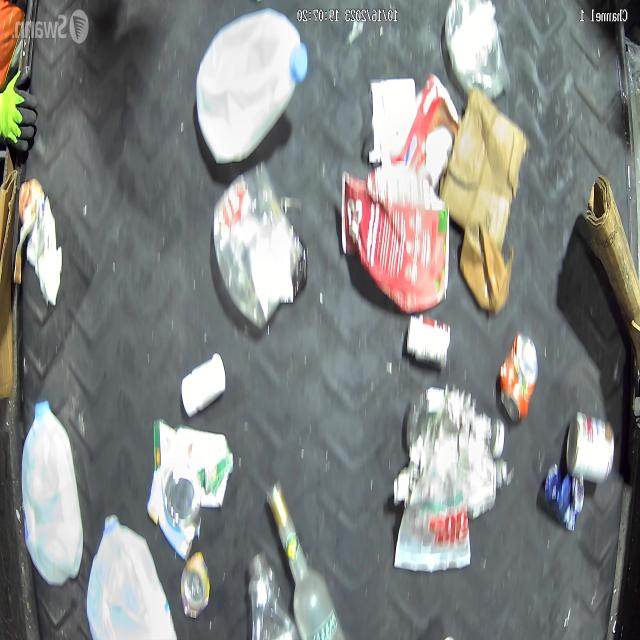can: (564, 408, 616, 485), (499, 329, 539, 422), (543, 462, 586, 533), (162, 462, 200, 527), (180, 550, 211, 620)
milk_jug: (194, 5, 310, 165), (20, 397, 84, 586), (85, 512, 178, 640)
non_white_jug: (340, 162, 450, 314)
plastic_bottle: (247, 552, 300, 640)
